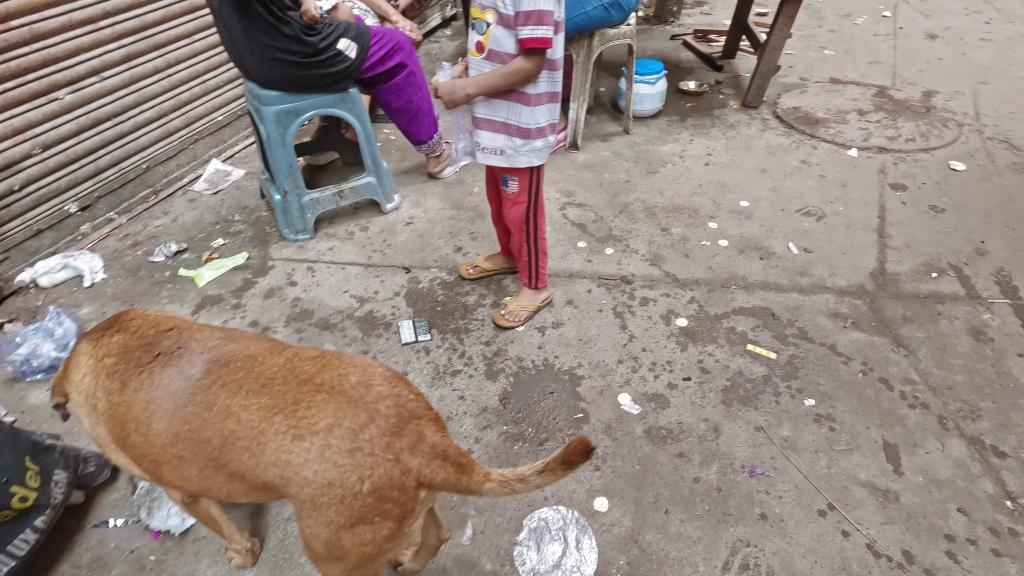garbage: (509, 501, 601, 576), (9, 244, 119, 302), (0, 303, 81, 381), (185, 151, 250, 207), (177, 252, 249, 289), (384, 308, 439, 348), (741, 339, 792, 372), (144, 237, 191, 263), (615, 387, 643, 419), (943, 155, 971, 185)
